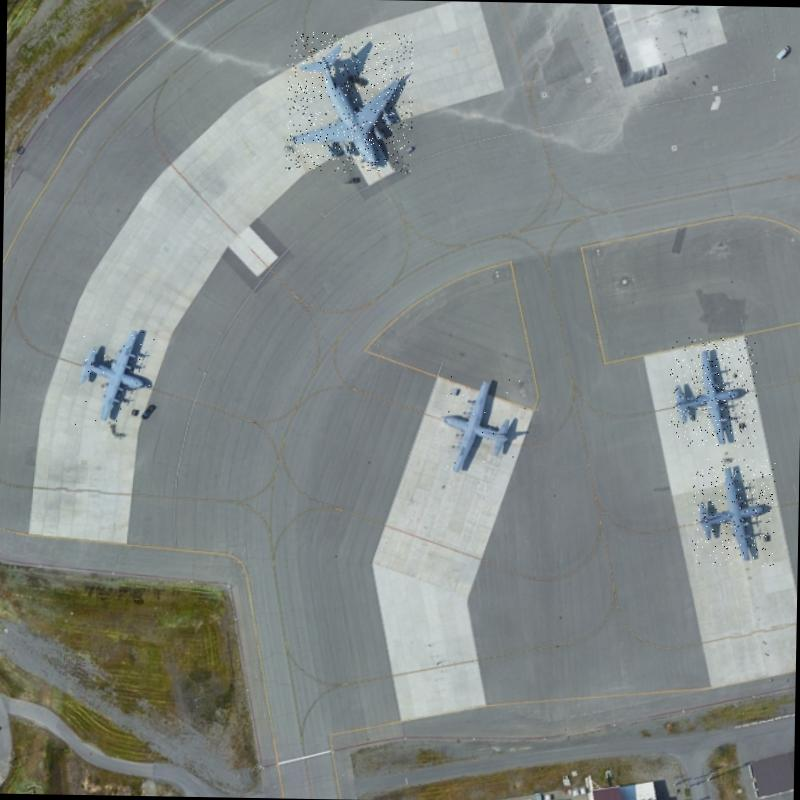A2: (668, 336, 757, 447), (435, 374, 526, 476), (691, 458, 775, 566), (72, 320, 156, 426)
A3: (285, 31, 413, 173)
